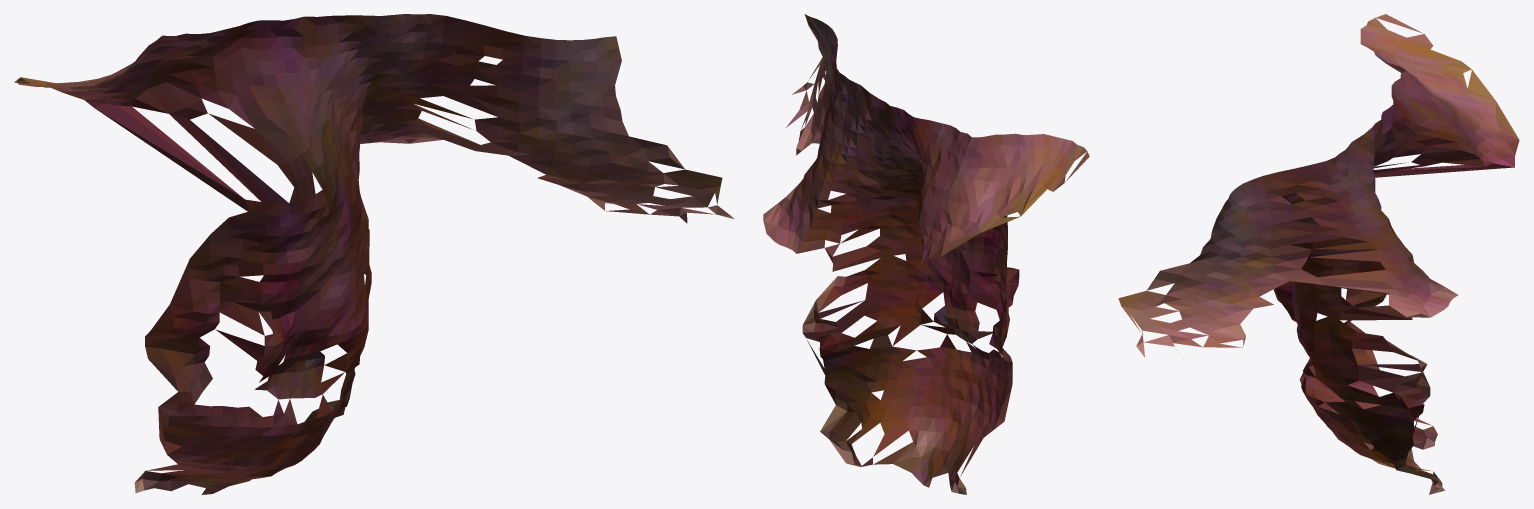
3 renders of one model, left to right at view 1: azimuth 30°, elevation 25°; view 2: azimuth 150°, elevation 25°; view 3: azimuth 270°, elevation 25°, orthographic. The views are drawn at different scales.
Parts seen in each view (by area): view 1: ofMesh; view 2: ofMesh; view 3: ofMesh.
Boxes of the visible parts, <box> form: ofMesh: <box>14,14,733,494</box>; ofMesh: <box>763,14,1089,494</box>; ofMesh: <box>1118,14,1519,494</box>.
Size of the model in its own units: 342 by 282 by 270.
Materials: 1 (1 with a texture image).
